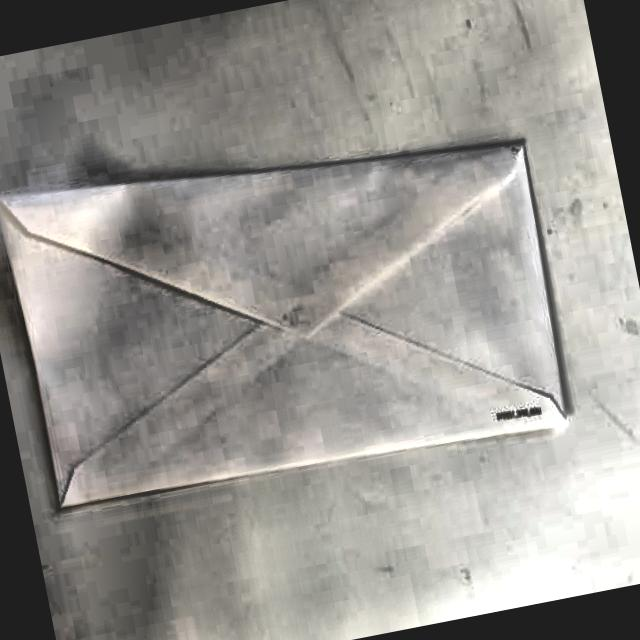paper: (0, 92, 582, 523)
